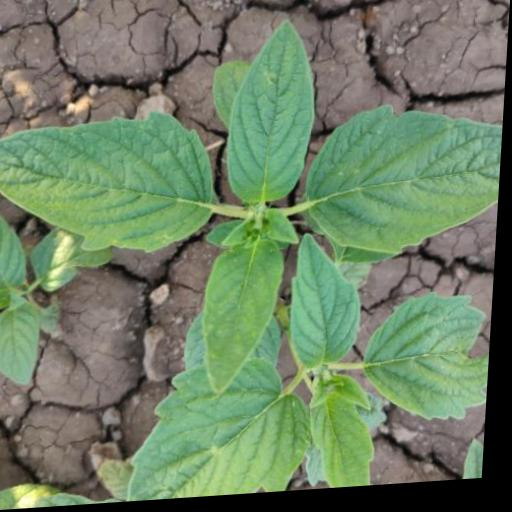crop: (0, 11, 510, 397), (86, 223, 500, 506)
